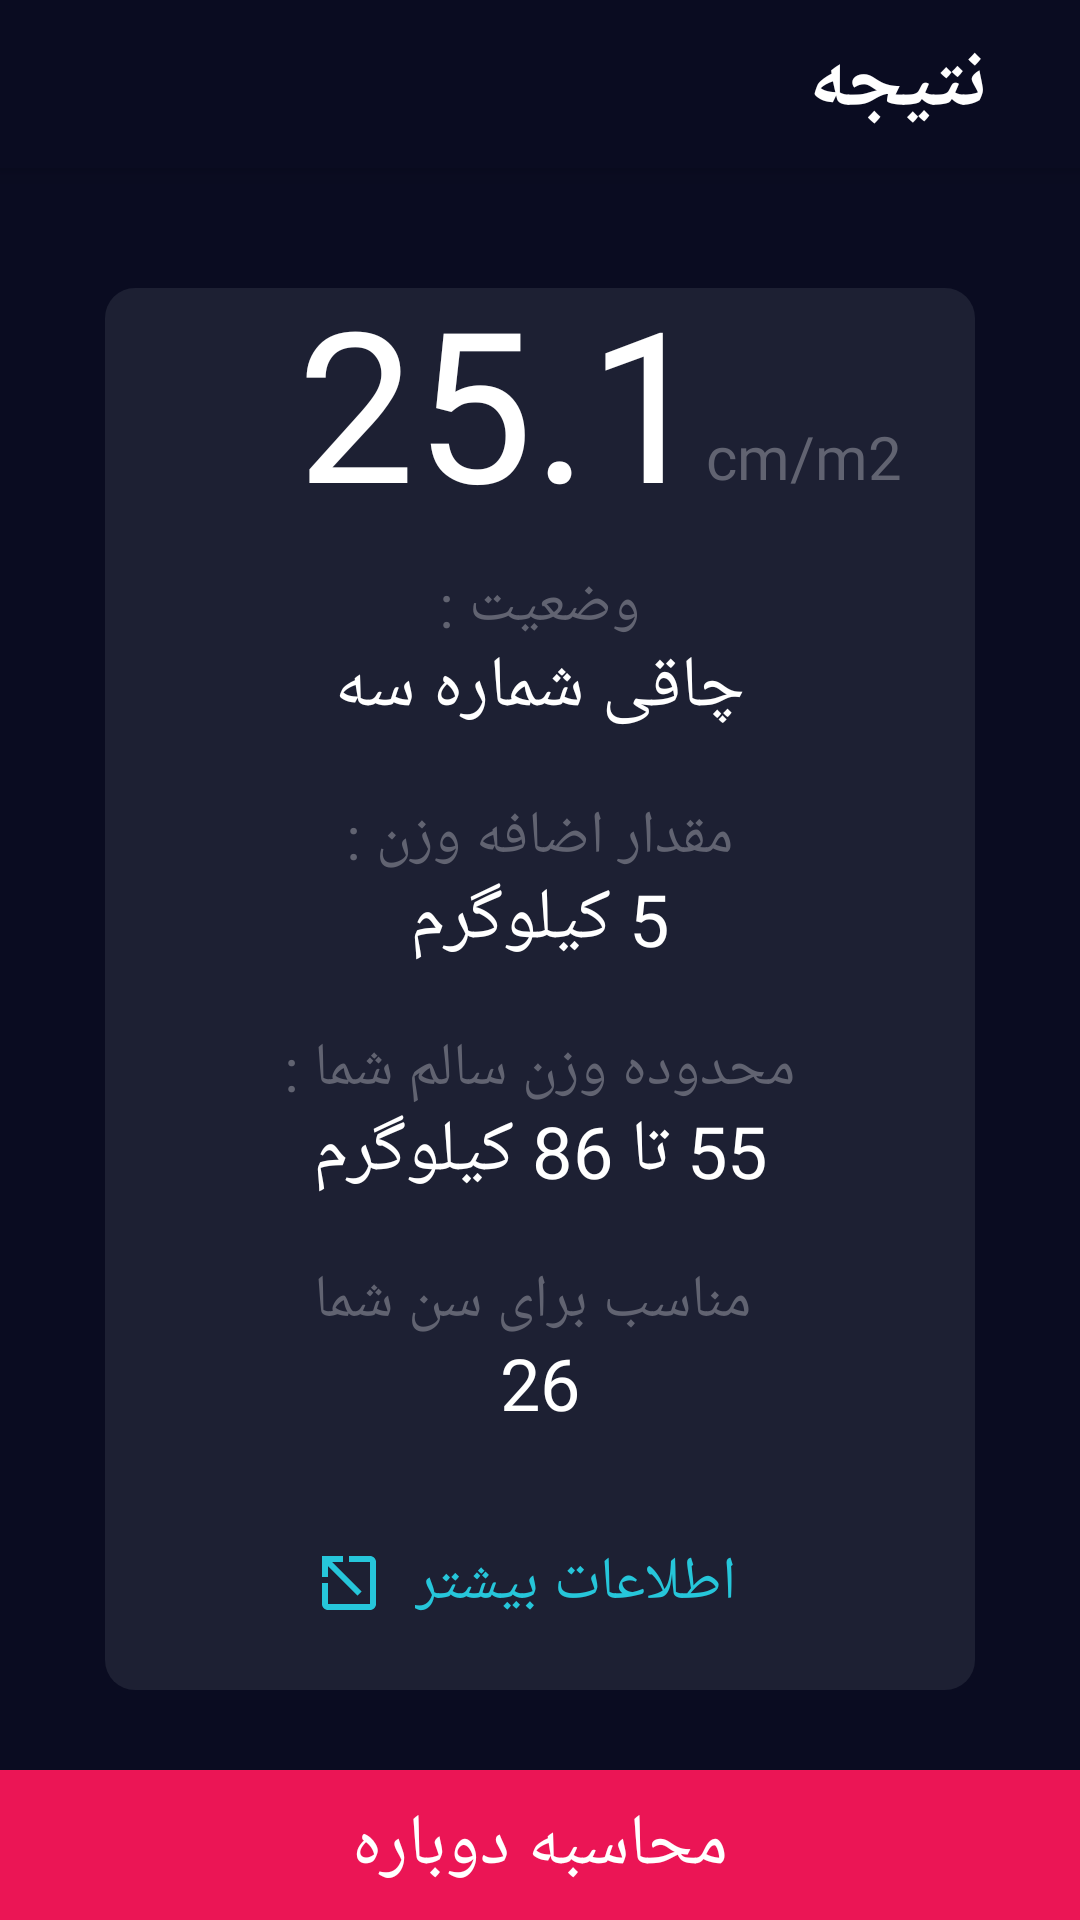

Point at icon controls on the screen. Image size 1080x1920, points as (x=x, y=y).
open in: (x=349, y=1583)
